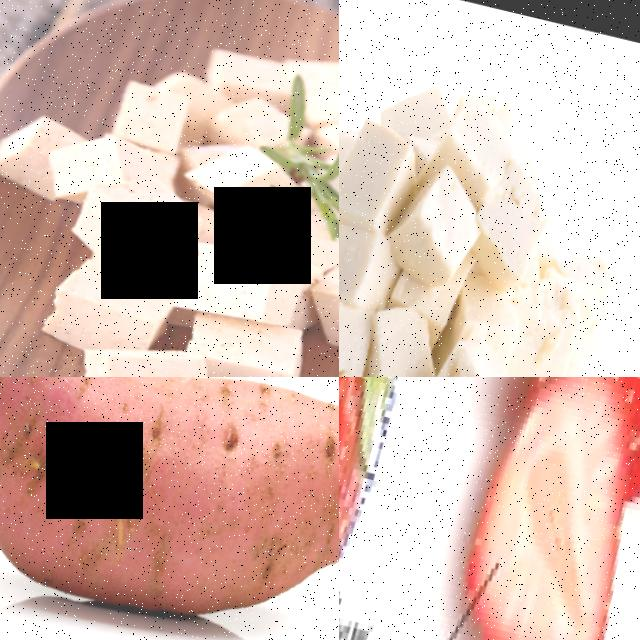sweet potato: (0, 377, 339, 640)
tofu: (65, 162, 207, 276), (40, 254, 176, 358), (464, 153, 564, 293), (384, 158, 489, 291), (175, 233, 310, 333), (536, 241, 629, 377), (41, 122, 150, 207), (339, 111, 417, 229), (200, 309, 322, 377), (182, 131, 274, 221), (69, 329, 224, 377), (356, 296, 445, 377), (109, 74, 198, 154), (0, 105, 70, 193), (417, 330, 524, 377), (339, 290, 380, 377), (307, 250, 339, 361)
